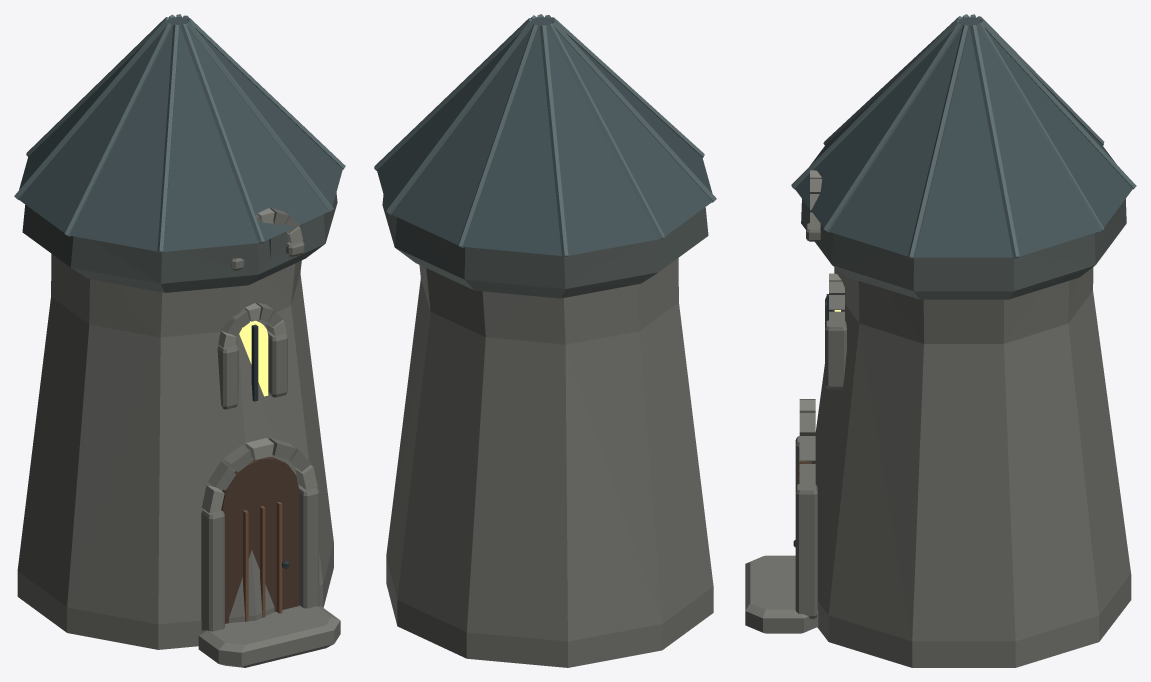
The model's file is BLD_V3_Tower_Round.glb.
3 renders of one model, left to right at view 1: azimuth 30°, elevation 25°; view 2: azimuth 150°, elevation 25°; view 3: azimuth 270°, elevation 25°, orthographic. The views are drawn at different scales.
Parts seen in each view (by area): view 1: BLD_V3_Tower_Round; view 2: BLD_V3_Tower_Round; view 3: BLD_V3_Tower_Round.
Boxes of the visible parts, left/top/right/bottom form: BLD_V3_Tower_Round: left=14, top=14, right=345, bottom=667; BLD_V3_Tower_Round: left=374, top=14, right=716, bottom=667; BLD_V3_Tower_Round: left=745, top=14, right=1136, bottom=667.
Bounding box in the file's own units: 2.3 × 4.41 × 2.67.
